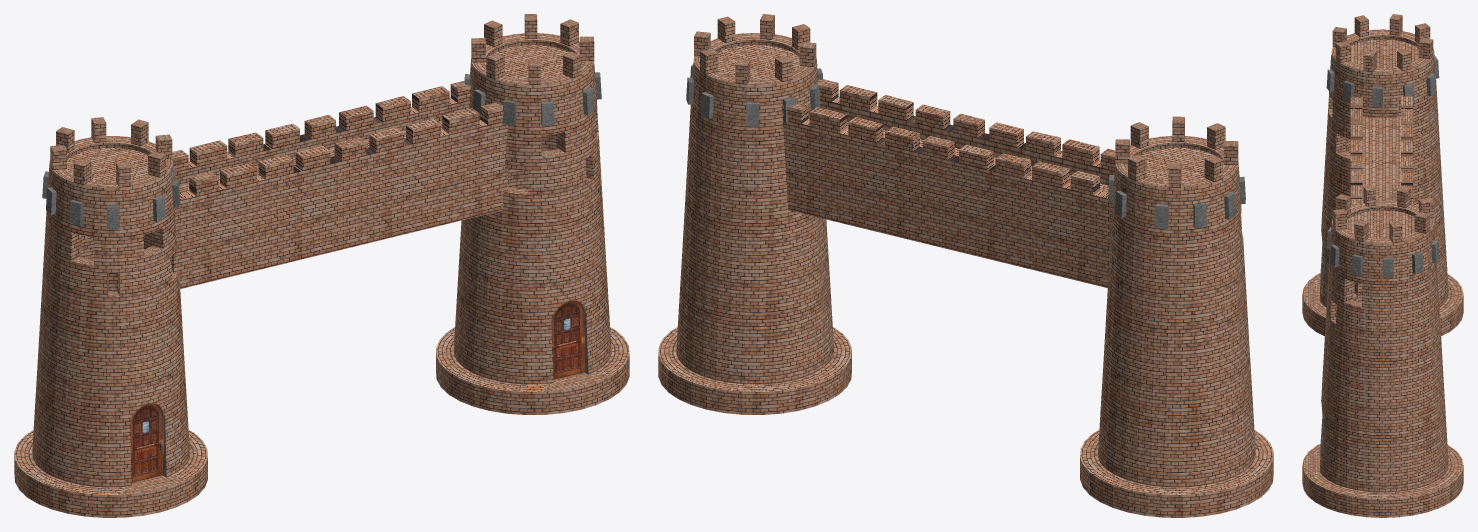
The model's file is Khyber Gate.fbx.
3 renders of one model, left to right at view 1: azimuth 30°, elevation 25°; view 2: azimuth 150°, elevation 25°; view 3: azimuth 270°, elevation 25°, orthographic. The views are drawn at different scales.
Visible parts, largest first — view 1: Cylinder.005, Plane.004, Cube; view 2: Cylinder.005, Plane.004; view 3: Cylinder.005, Plane.004.
Boxes of the visible parts, x1,y1,x2,y2 form: Cylinder.005: [14, 14, 629, 517]; Plane.004: [171, 80, 507, 288]; Cube: [130, 300, 584, 482]; Cylinder.005: [658, 14, 1273, 517]; Plane.004: [782, 79, 1115, 287]; Cylinder.005: [1302, 14, 1463, 517]; Plane.004: [1350, 96, 1412, 293].
Bounding box in the file's own units: 1327 × 719 × 378.
4 materials, 4 textured.
